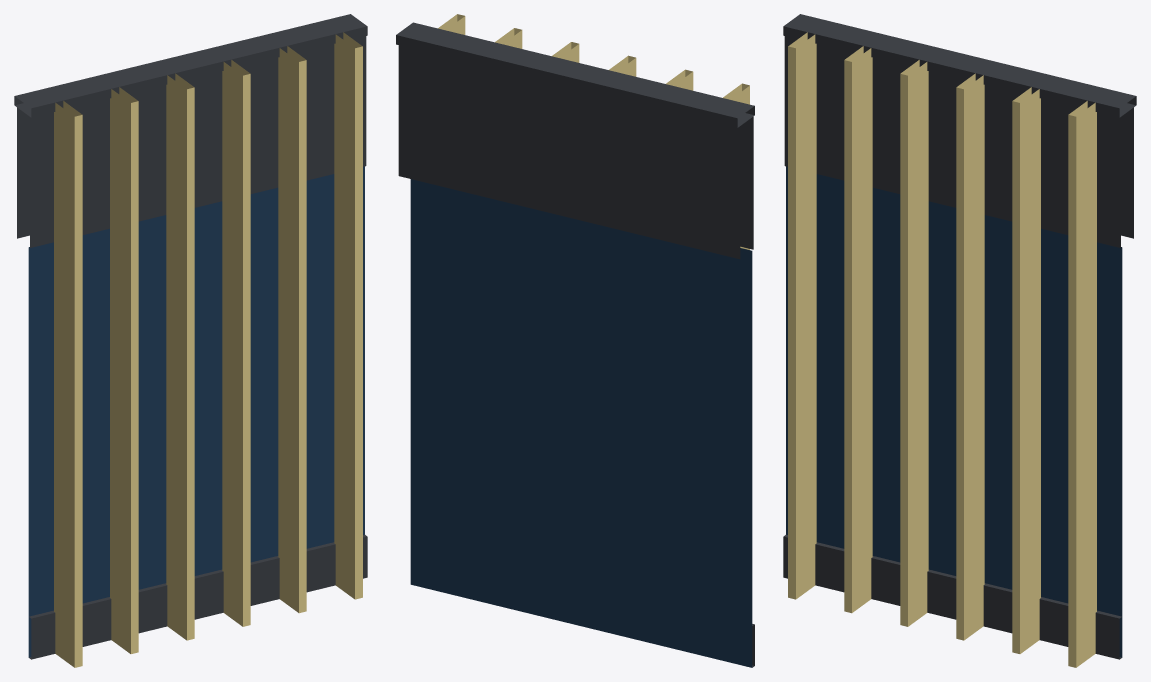
The model's file is top-w1.fbx.
3 renders of one model, left to right at view 1: azimuth 30°, elevation 25°; view 2: azimuth 150°, elevation 25°; view 3: azimuth 330°, elevation 25°, orthographic.
Visible parts, largest first — view 1: a2009/800/top-w1; view 2: a2009/800/top-w1; view 3: a2009/800/top-w1.
Boxes of the visible parts, x1,y1,x2,y2 form: a2009/800/top-w1: [14, 14, 367, 667]; a2009/800/top-w1: [396, 14, 754, 667]; a2009/800/top-w1: [783, 14, 1136, 667].
Bounding box in the file's own units: 3 × 4.7 × 0.56.
